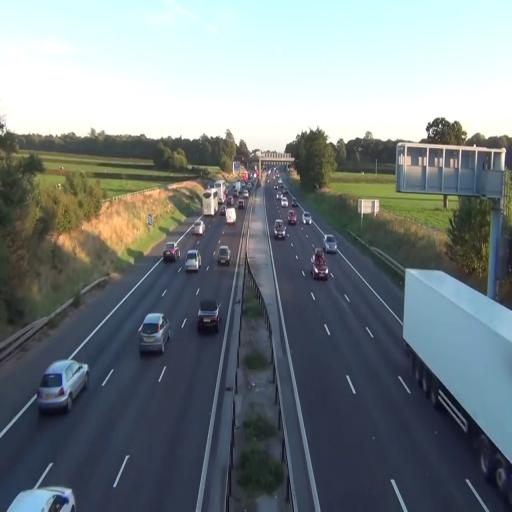vehicle: (37, 357, 89, 413), (5, 471, 76, 512), (5, 484, 76, 512), (138, 312, 170, 356), (197, 301, 221, 333), (311, 250, 329, 280), (184, 250, 200, 273), (162, 244, 178, 264), (216, 244, 230, 266), (274, 218, 286, 240), (324, 234, 337, 252), (226, 206, 236, 226), (288, 210, 296, 226)
